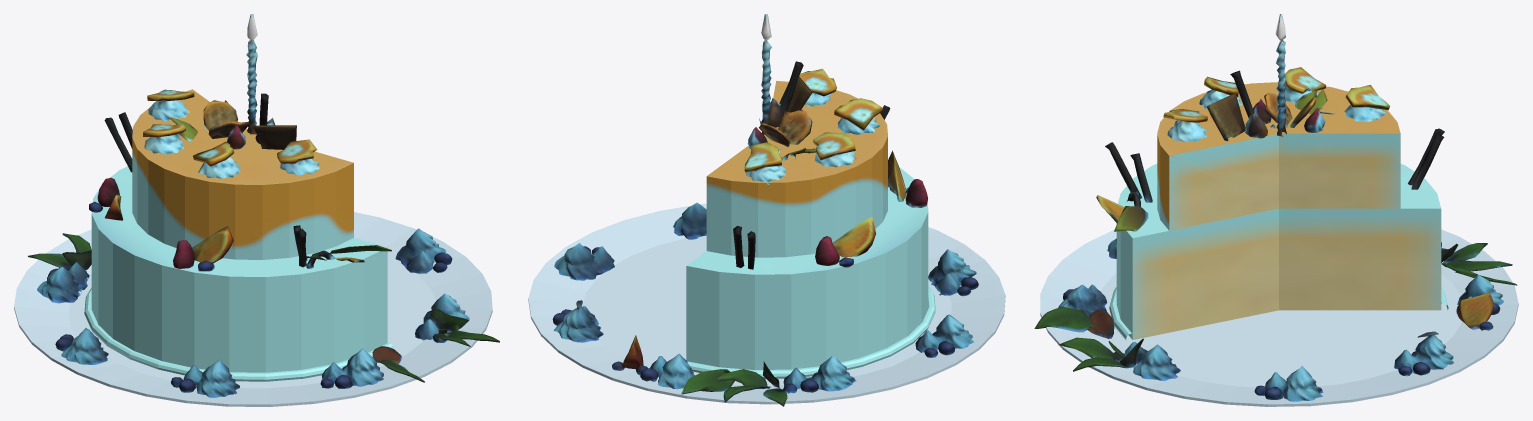
Rendered from denia_cake_3.obj.
3 views of the same model, side by side, from view 1: azimuth 30°, elevation 25°; view 2: azimuth 150°, elevation 25°; view 3: azimuth 270°, elevation 25° (orthographic).
Visible parts, largest first — view 1: cake; view 2: cake; view 3: cake.
Part boxes in pixels (bbox=[...]): cake: bbox=[14, 14, 499, 406]; cake: bbox=[528, 14, 1005, 406]; cake: bbox=[1034, 14, 1518, 406].
Bounding box in the file's own units: 0.959 × 0.6594 × 0.9697.
